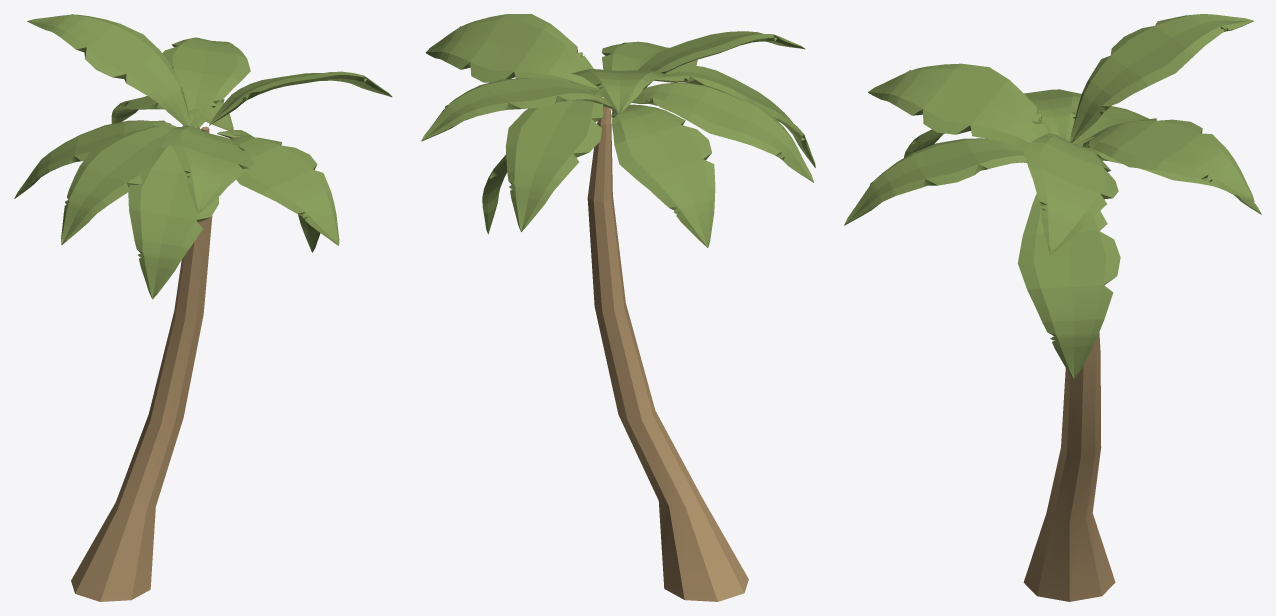
The model's file is atoll_palmTree_01.fbx.
3 views of the same model, side by side, from view 1: azimuth 30°, elevation 25°; view 2: azimuth 150°, elevation 25°; view 3: azimuth 270°, elevation 25° (orthographic). The views are drawn at different scales.
Visible parts, largest first — view 1: TRUNK_2, LEAF_2, LEAF_11, LEAF_7, LEAF_8, LEAF_6, LEAF_1, LEAF_9, LEAF_4, LEAF_10, LEAF_5; view 2: TRUNK_2, LEAF_9, LEAF_4, LEAF_10, LEAF_8, LEAF_6, LEAF_1, LEAF_2, LEAF_11, LEAF_7, LEAF_5; view 3: TRUNK_2, LEAF_5, LEAF_1, LEAF_11, LEAF_6, LEAF_4, LEAF_7, LEAF_8, LEAF_9, LEAF_10.
Boxes of the visible parts, box(x1,y1,x2,y2) form: TRUNK_2: box(71, 126, 212, 601); LEAF_2: box(128, 126, 218, 299); LEAF_11: box(27, 14, 191, 126); LEAF_7: box(229, 136, 339, 245); LEAF_8: box(61, 125, 174, 244); LEAF_6: box(162, 37, 250, 127); LEAF_1: box(165, 125, 253, 213); LEAF_9: box(14, 120, 176, 198); LEAF_4: box(209, 71, 392, 125); LEAF_10: box(111, 96, 233, 132); LEAF_5: box(217, 130, 320, 252); TRUNK_2: box(587, 98, 748, 601); LEAF_9: box(611, 104, 715, 247); LEAF_4: box(425, 14, 598, 91); LEAF_10: box(505, 90, 603, 231); LEAF_8: box(632, 82, 813, 182); LEAF_6: box(421, 78, 613, 141); LEAF_1: box(638, 31, 805, 89); LEAF_2: box(654, 65, 815, 167); LEAF_11: box(571, 69, 668, 113); LEAF_7: box(601, 41, 697, 110); LEAF_5: box(482, 96, 602, 234); TRUNK_2: box(1023, 332, 1115, 601); LEAF_5: box(1017, 194, 1120, 379); LEAF_1: box(868, 63, 1050, 148); LEAF_11: box(1070, 14, 1253, 142); LEAF_6: box(1082, 118, 1254, 201); LEAF_4: box(1023, 133, 1118, 254); LEAF_7: box(844, 138, 1026, 225); LEAF_8: box(1024, 89, 1081, 140); LEAF_9: box(1068, 106, 1148, 144); LEAF_10: box(1076, 136, 1261, 214).
Size of the model in its own units: 739 by 1041 by 688.
